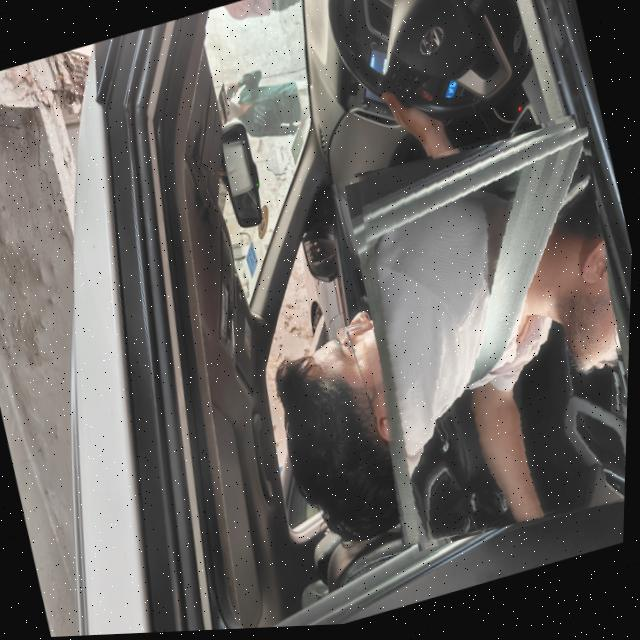seatbelt: (323, 115, 637, 564)
